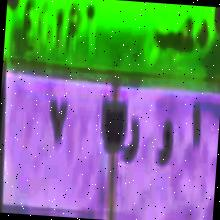7: (45, 90, 70, 156)
alif: (185, 98, 206, 164)
raa: (119, 108, 144, 173)
waw: (153, 113, 176, 173)
